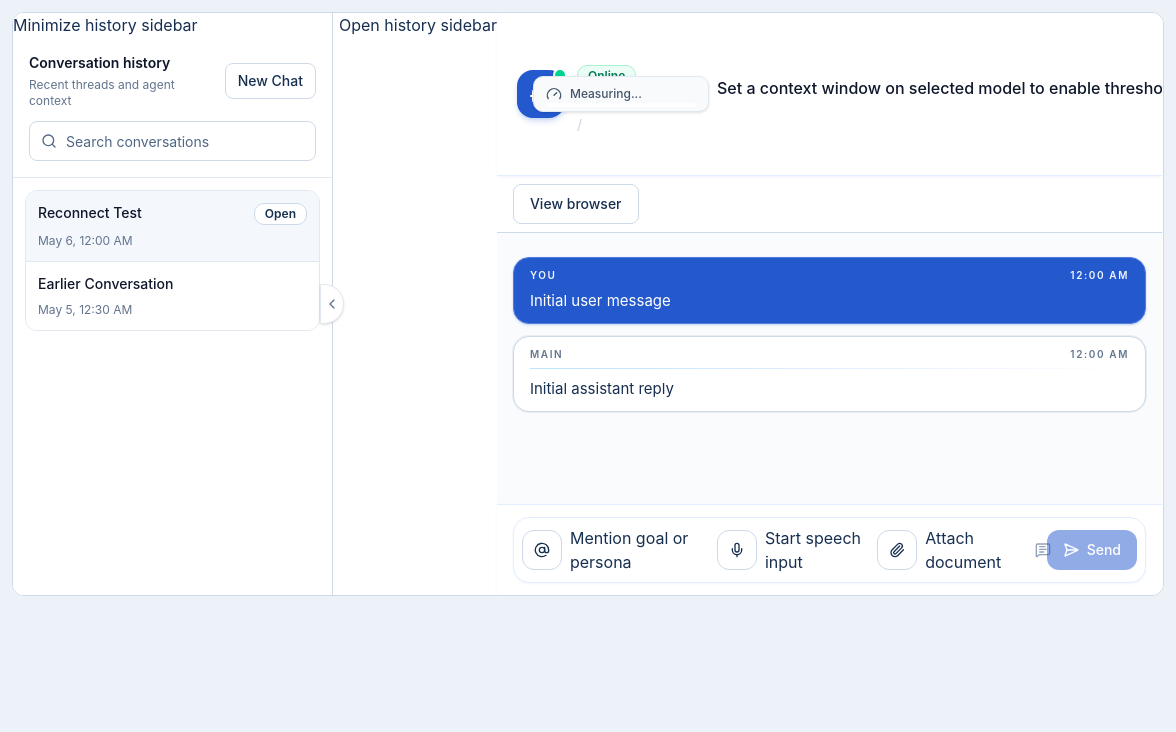
Test: ConversationWorkspace › renders a submitted user message before the async request resolves
Expected: the text "Initial assistant reply" is shown, [530,379,674,398]
Type "Show this immediately." into the field labelled "Message Main" at (1063, 550), box [1059,530,1067,570]
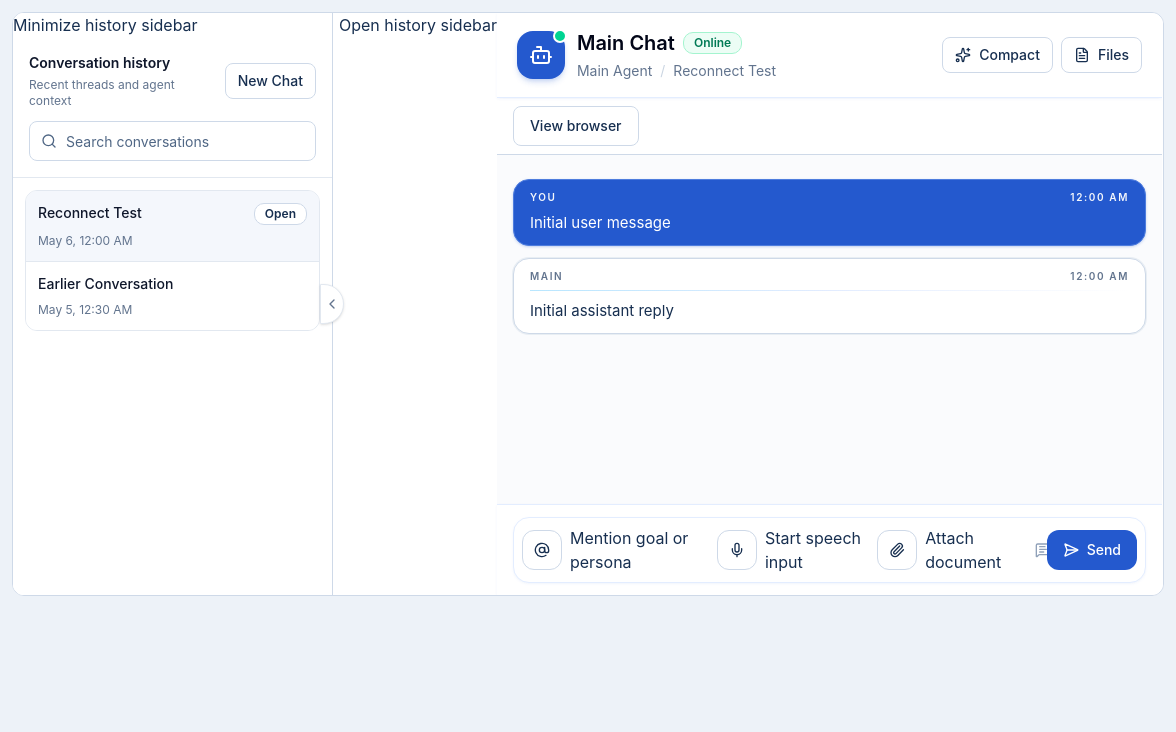
Click the button "Send" at (1092, 550), box [1047,530,1137,570]
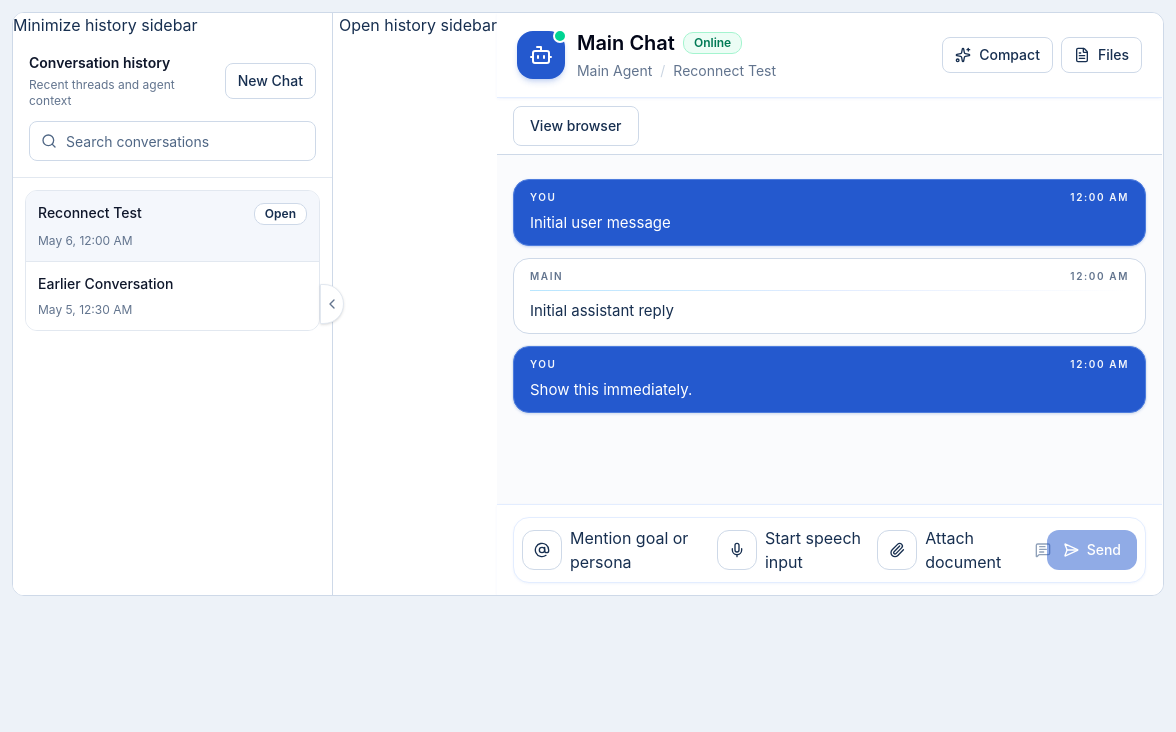
Expected: the text "Show this immediately." is shown once, [530,380,692,399]
